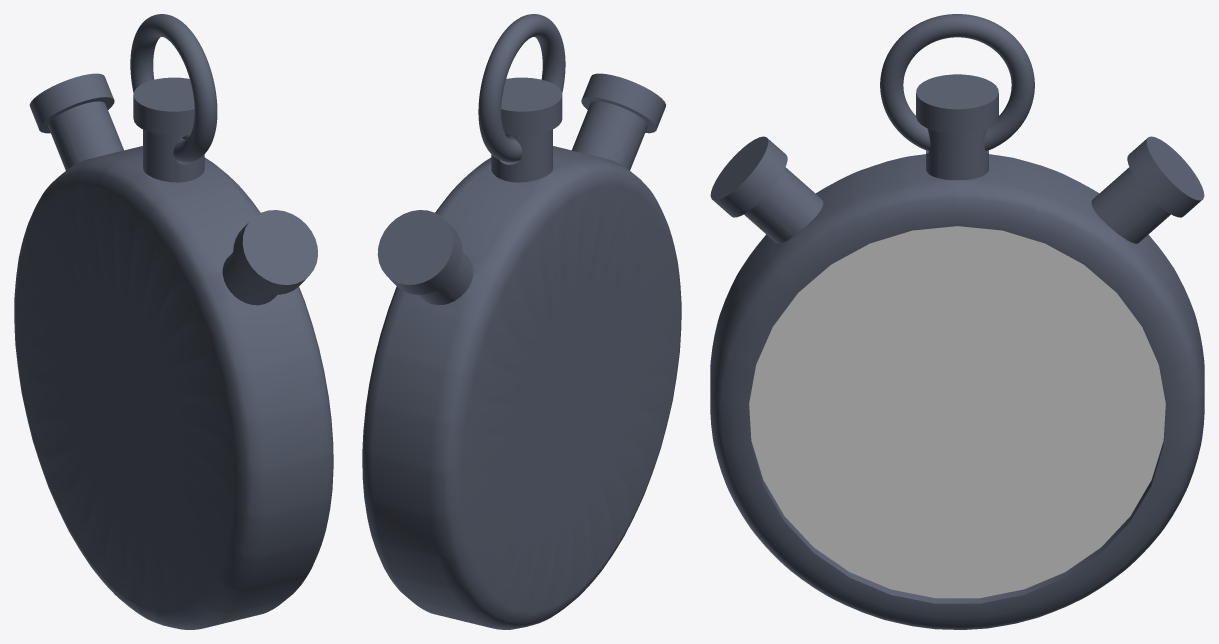
Rendered from タイマー.fbx.
3 views of the same model, side by side, from view 1: azimuth 30°, elevation 25°; view 2: azimuth 150°, elevation 25°; view 3: azimuth 270°, elevation 25° (orthographic). The views are drawn at different scales.
Visible parts, largest first — view 1: pCylinder14; view 2: pCylinder14; view 3: pCylinder14.
Part boxes in pixels (box(x1,y1,x2,y2)): pCylinder14: box(14, 14, 333, 629); pCylinder14: box(362, 14, 681, 629); pCylinder14: box(710, 14, 1204, 629).
Bounding box in the file's own units: 0.4643 × 2.66 × 1.99.
